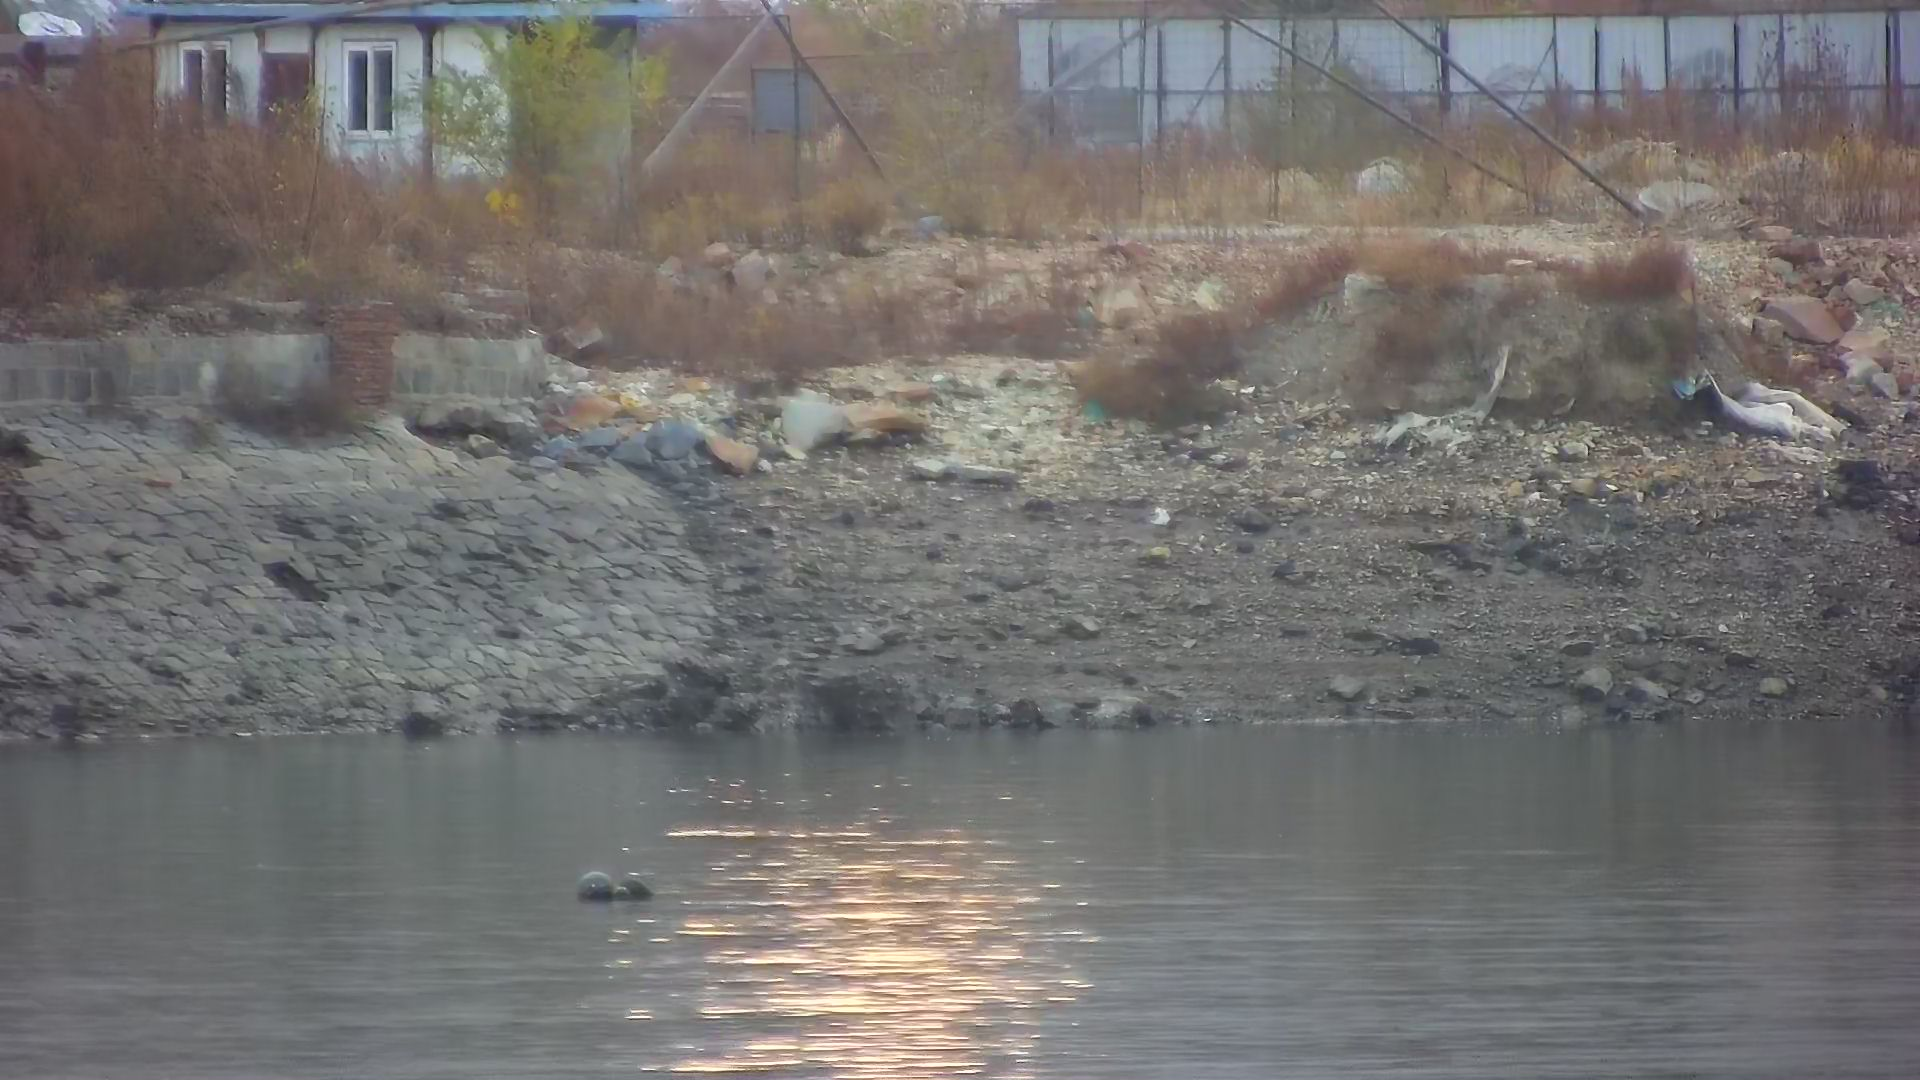rubbish: (571, 866, 661, 909)
